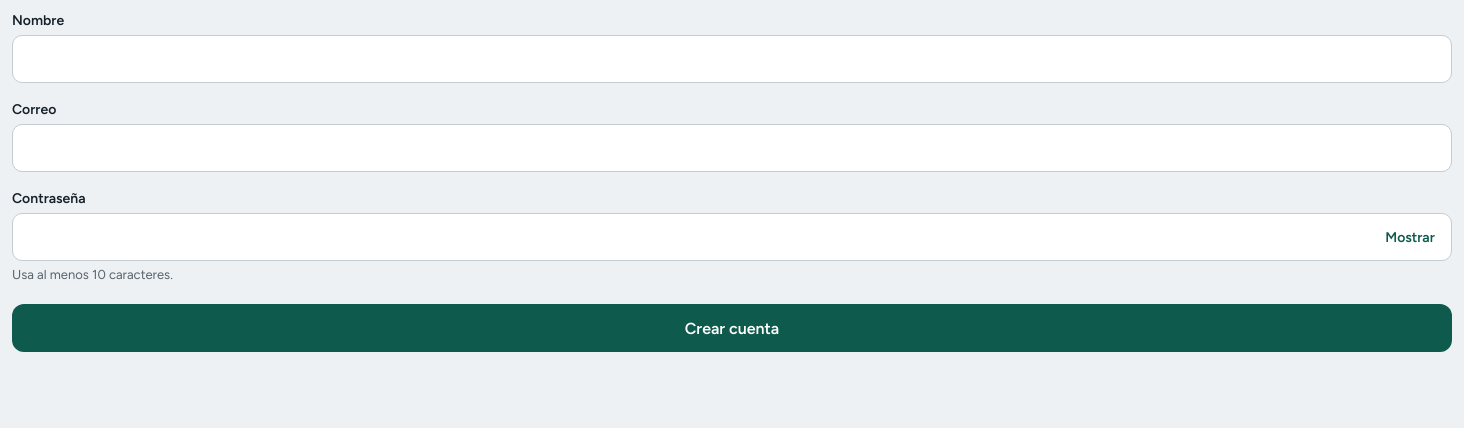
Scenario: RegisterForm › shows when the email is already registered
Step 1. Type "Ana" into the field labelled "Nombre" → point(732, 59), box [12, 35, 1452, 83]
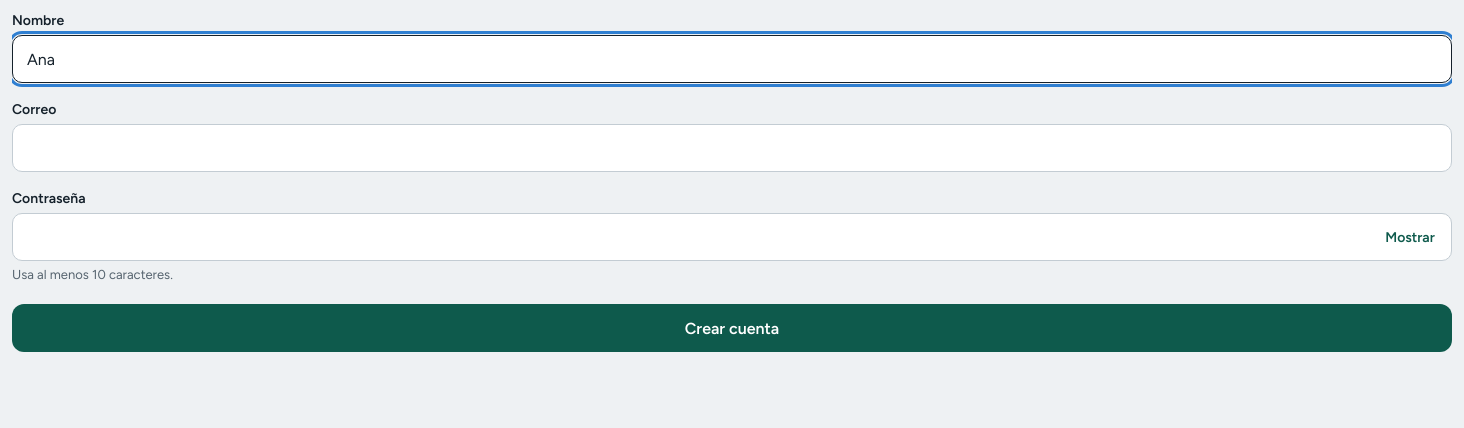
Step 2. Type "ana@example.com" into the field labelled "Correo" → point(732, 148), box [12, 124, 1452, 172]
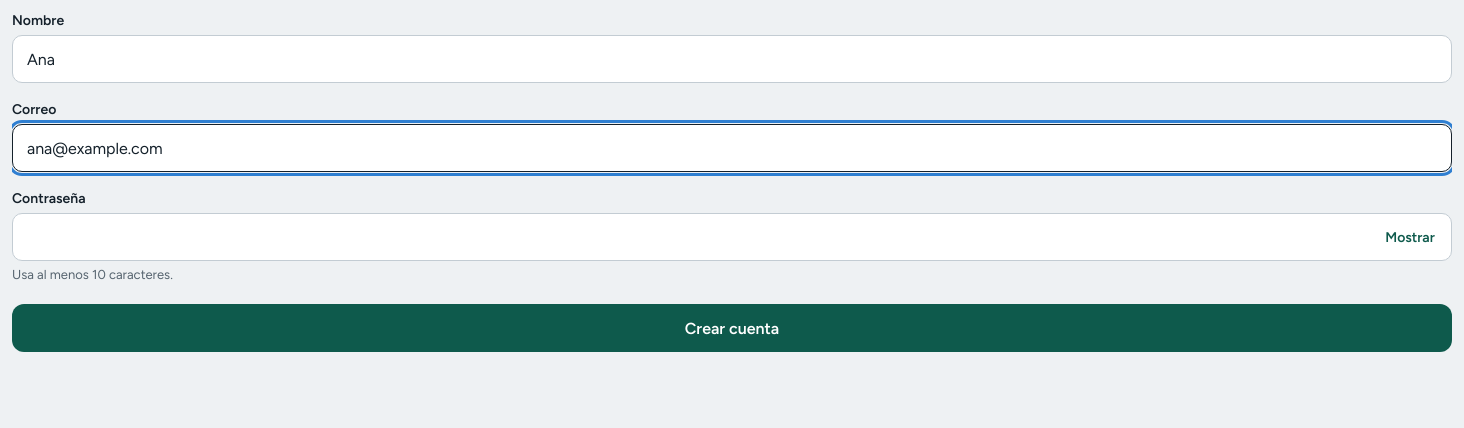
Step 3. Type "contraseña-segura" into the password field labelled "Contraseña" → point(732, 237), box [12, 213, 1452, 261]
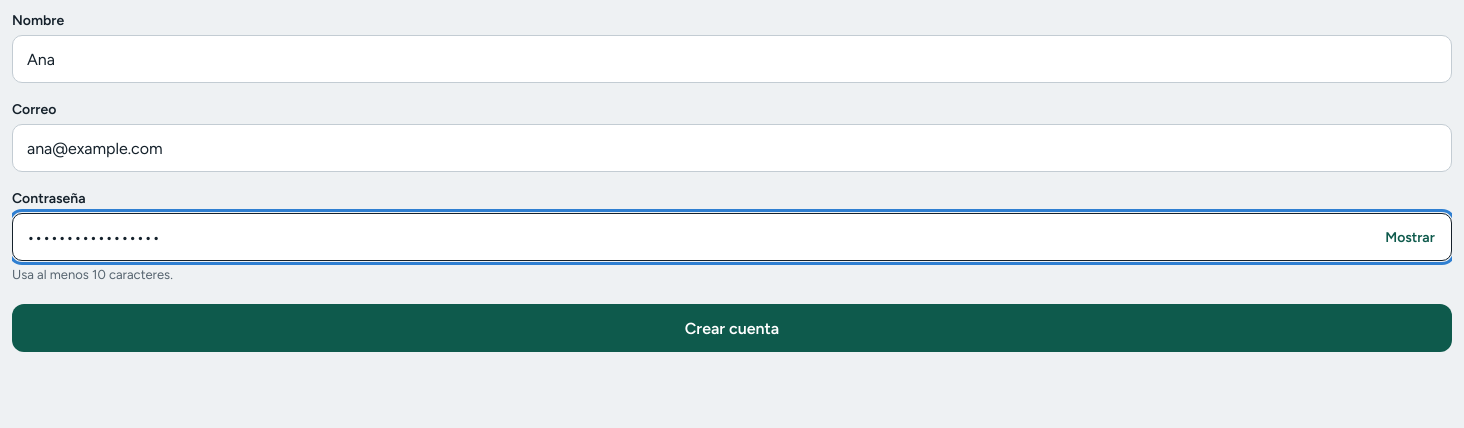
Step 4. Click the button "Crear cuenta" → point(732, 328), box [12, 304, 1452, 352]
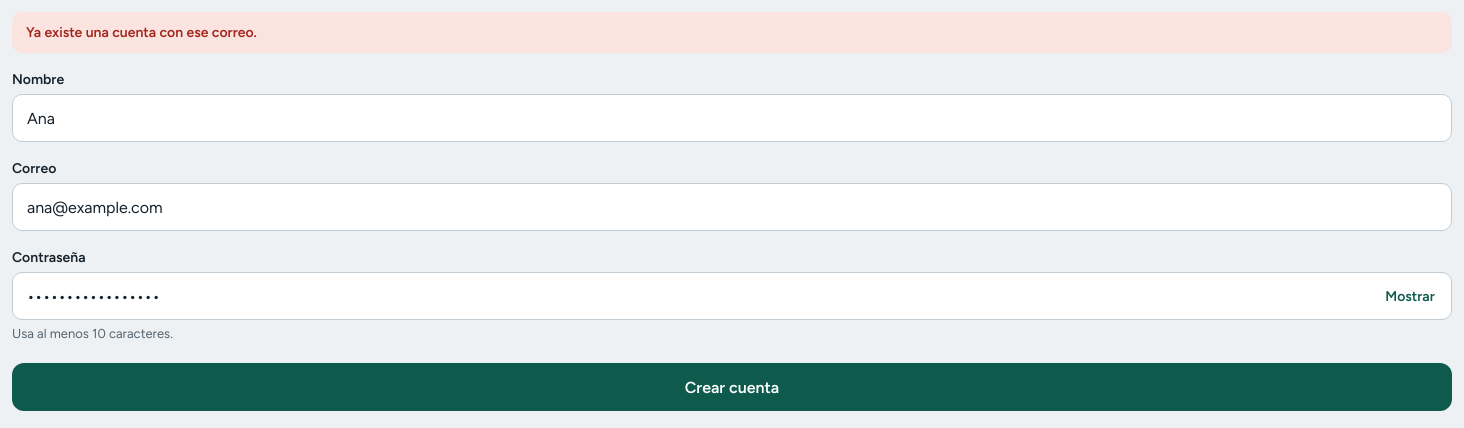
Expected: the message reads "Ya existe una cuenta con ese correo.", [26, 24, 257, 41]
